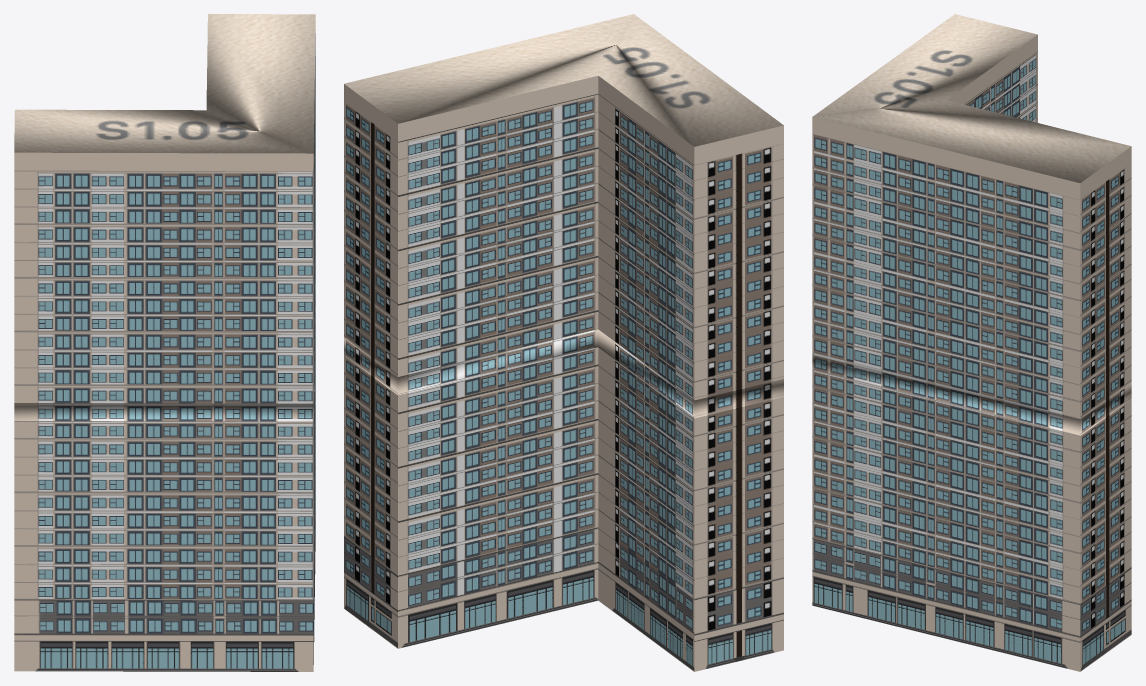
3 views of the same model, side by side, from view 1: azimuth 30°, elevation 25°; view 2: azimuth 150°, elevation 25°; view 3: azimuth 270°, elevation 25° (orthographic). The views are drawn at different scales.
Parts seen in each view (by area): view 1: Asset3DLoader.sceneRoot; view 2: Asset3DLoader.sceneRoot; view 3: Asset3DLoader.sceneRoot.
Boxes of the visible parts, x1,y1,x2,y2 form: Asset3DLoader.sceneRoot: (14, 14, 315, 671); Asset3DLoader.sceneRoot: (344, 14, 783, 671); Asset3DLoader.sceneRoot: (812, 14, 1131, 671).
Bounding box in the file's own units: 70.94 × 95.5 × 56.56.
Materials: 1 (1 with a texture image).
